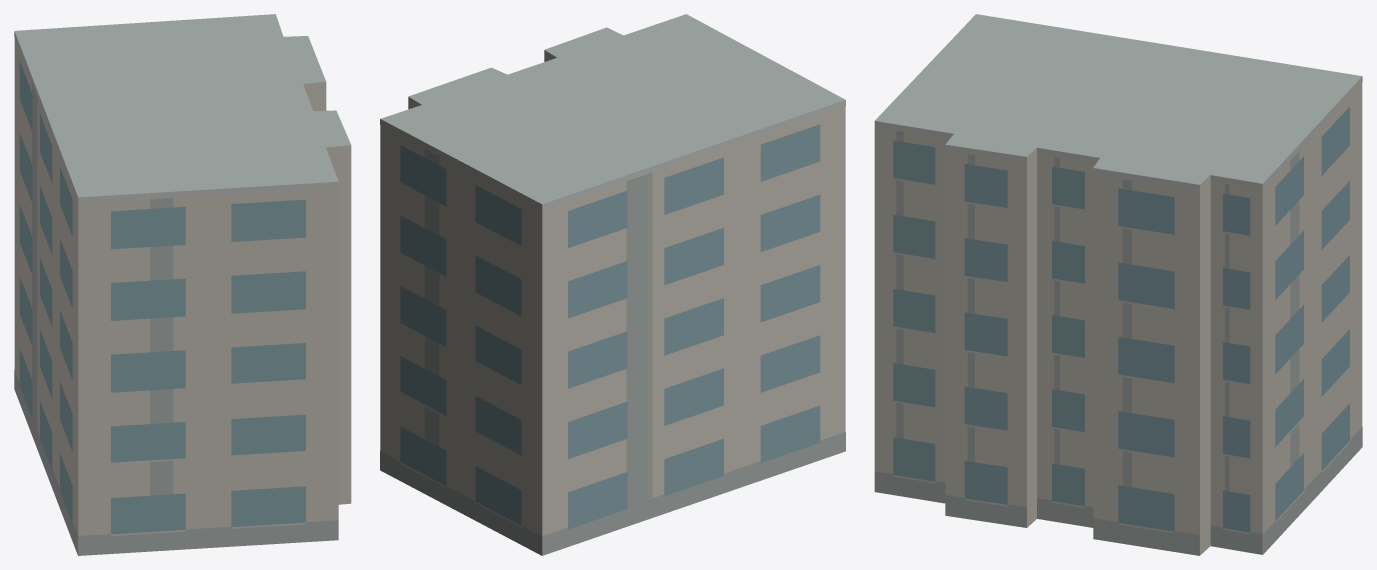
File: survey-upis-32868949.glb
The picture shows the model from 3 angles, left to right: view 1: azimuth 30°, elevation 25°; view 2: azimuth 150°, elevation 25°; view 3: azimuth 270°, elevation 25°; orthographic projection. The views are drawn at different scales.
Parts seen in each view (by area): view 1: survey-upis-32868949.tmp; view 2: survey-upis-32868949.tmp; view 3: survey-upis-32868949.tmp.
Part boxes in pixels (x1=…): survey-upis-32868949.tmp: x1=14, y1=14, x2=351, y2=555; survey-upis-32868949.tmp: x1=380, y1=14, x2=845, y2=555; survey-upis-32868949.tmp: x1=874, y1=14, x2=1362, y2=555.
Size of the model in its own units: 13.93 by 14.1 by 16.81.
